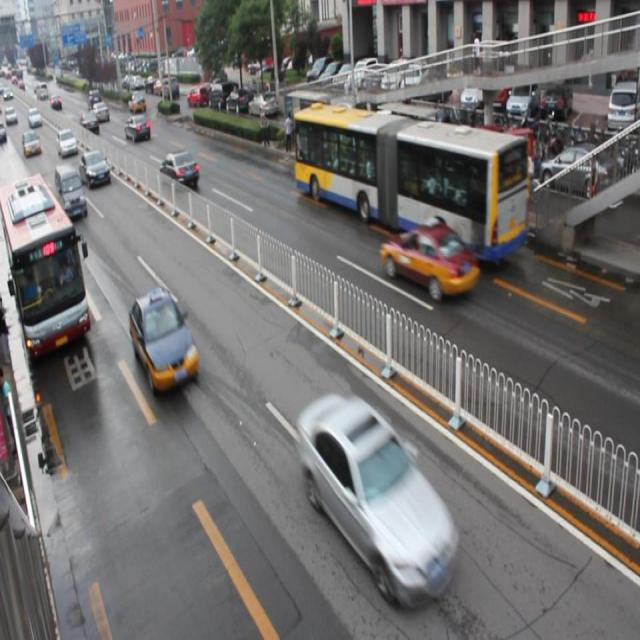car: (298, 395, 459, 605), (379, 219, 478, 299), (130, 286, 198, 394), (159, 149, 199, 189), (78, 150, 112, 191), (124, 115, 150, 143)
truck: (55, 163, 88, 219)
van: (292, 101, 529, 262), (0, 176, 90, 360)
